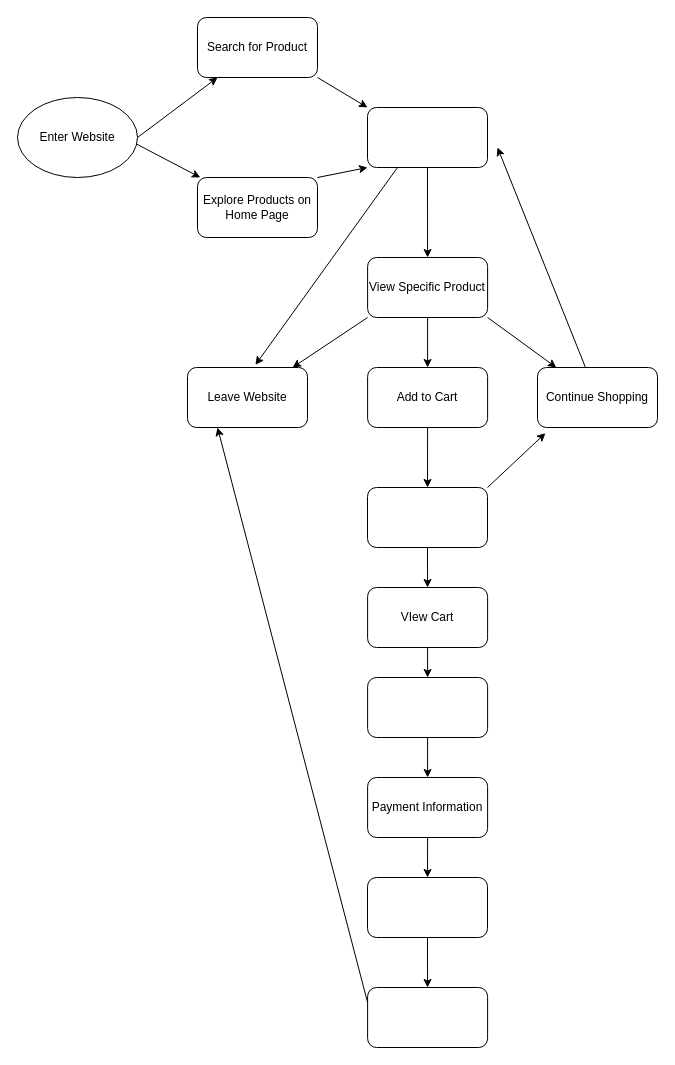
This 675x1065 diagram has some shape labels left out. The centre of each missing label's shape, as x and y in pixels:
"Added to Cart Confirmation" belongs at point (427, 517).
"Look over Products" belongs at point (427, 137).
"Order Confirmation Screen" belongs at point (427, 1017).
"Pay" belongs at point (427, 907).
"View Payment" belongs at point (427, 707).
